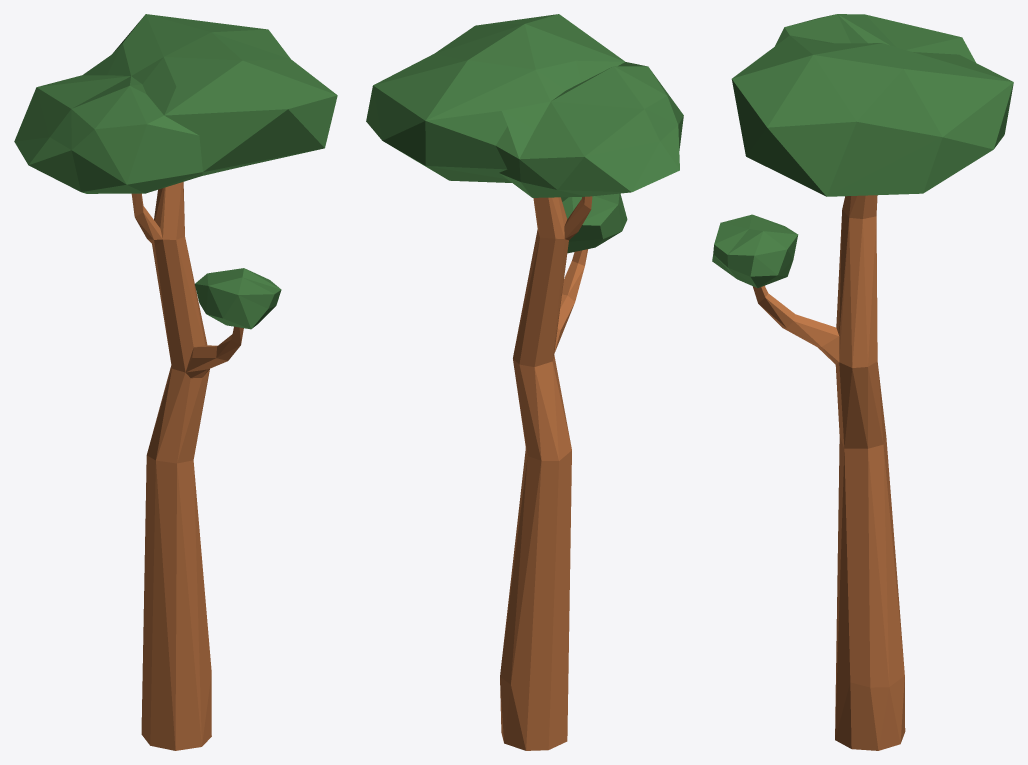
Rendered from tree02.gltf.
3 renders of one model, left to right at view 1: azimuth 30°, elevation 25°; view 2: azimuth 150°, elevation 25°; view 3: azimuth 270°, elevation 25°, orthographic. The views are drawn at different scales.
Parts seen in each view (by area): view 1: Cylinder; view 2: Cylinder; view 3: Cylinder.
Boxes of the visible parts, <box> form: Cylinder: <box>14,14,337,750</box>; Cylinder: <box>366,14,683,750</box>; Cylinder: <box>712,14,1013,750</box>.
Bounding box in the file's own units: 1.34 × 3.02 × 1.18.
1 material, 1 textured.
